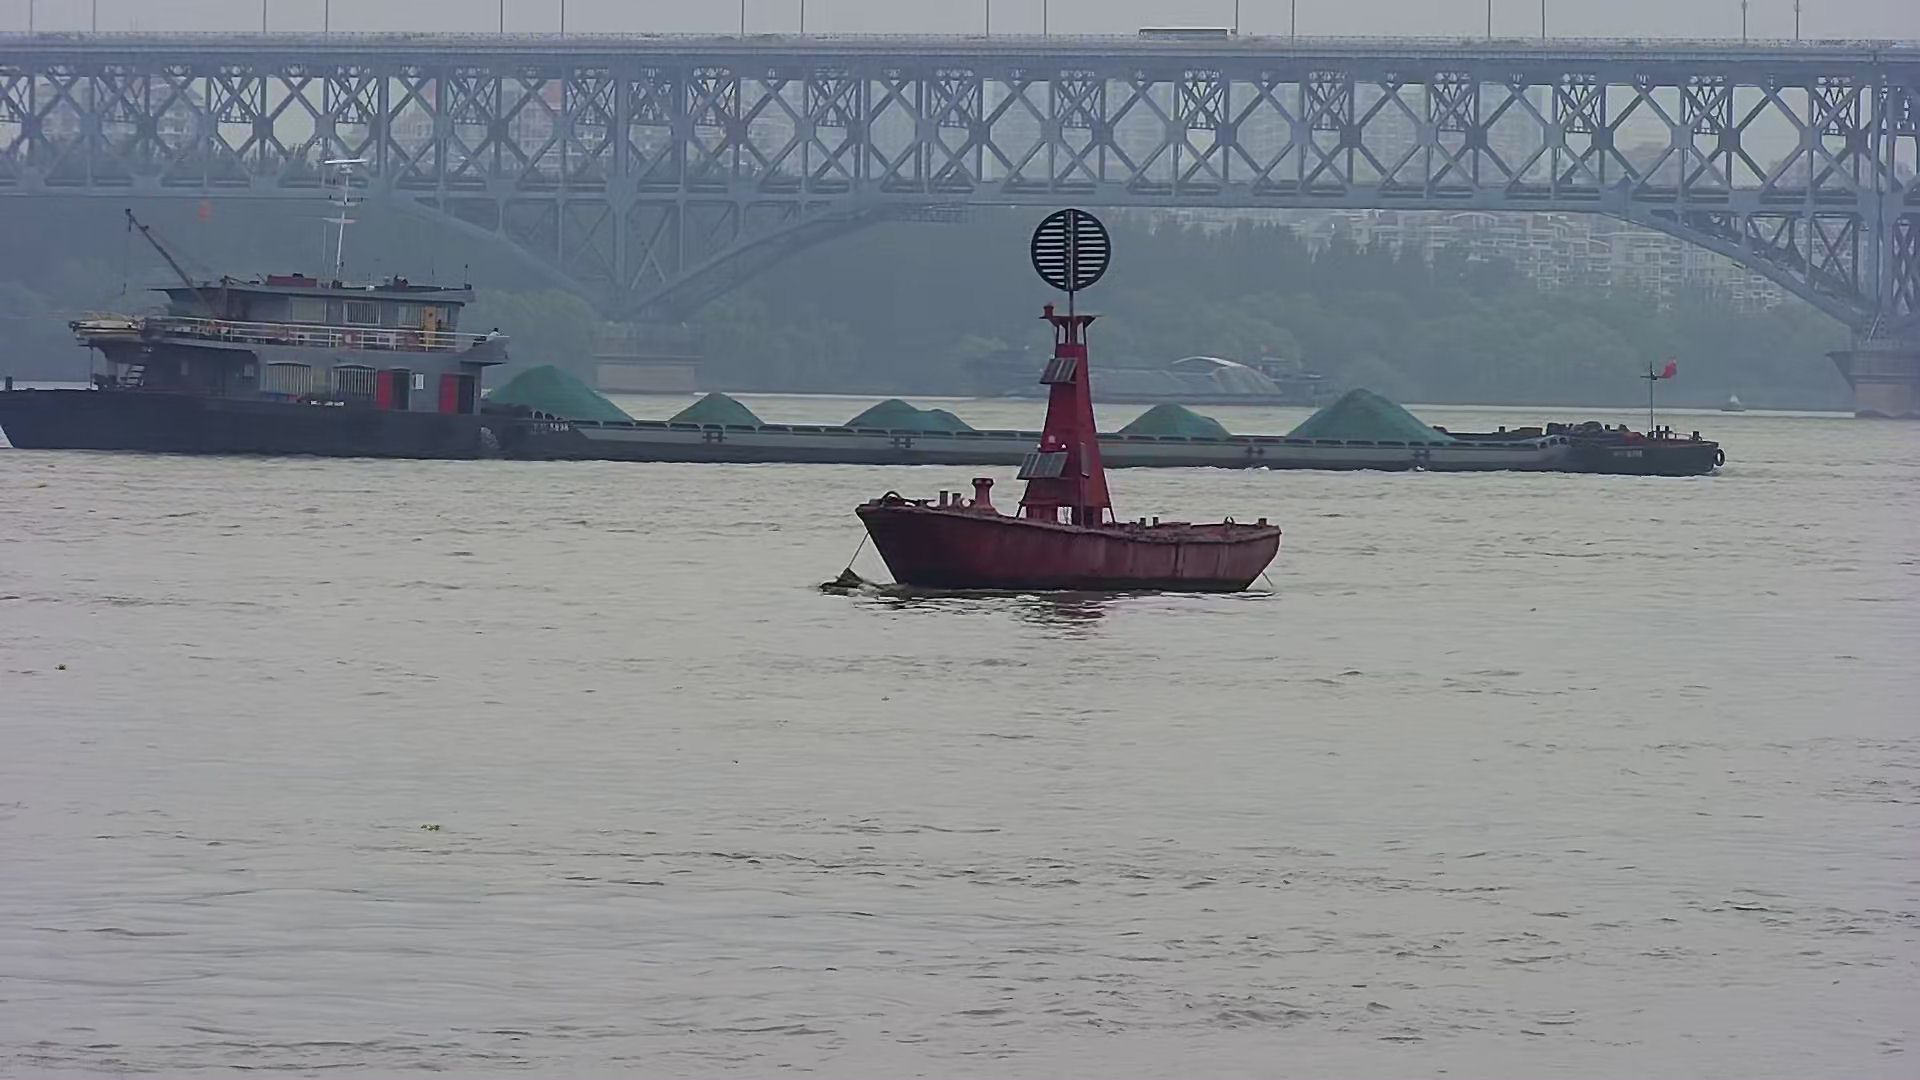boat: (814, 200, 1298, 611), (1708, 389, 1764, 422)
bridge: (1, 20, 1919, 425)
ship: (1, 152, 1733, 480), (957, 332, 1341, 417)
